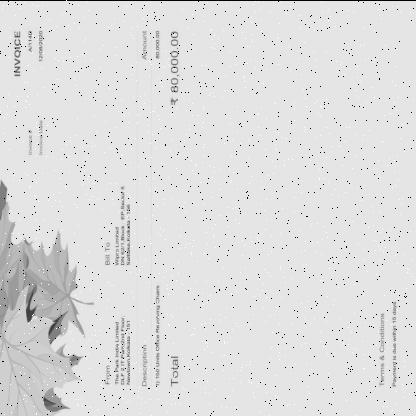Paragraph: (168, 26, 182, 388), (12, 27, 46, 157), (102, 183, 132, 269), (102, 312, 133, 388), (376, 298, 400, 390)
Table: (137, 26, 165, 388)
